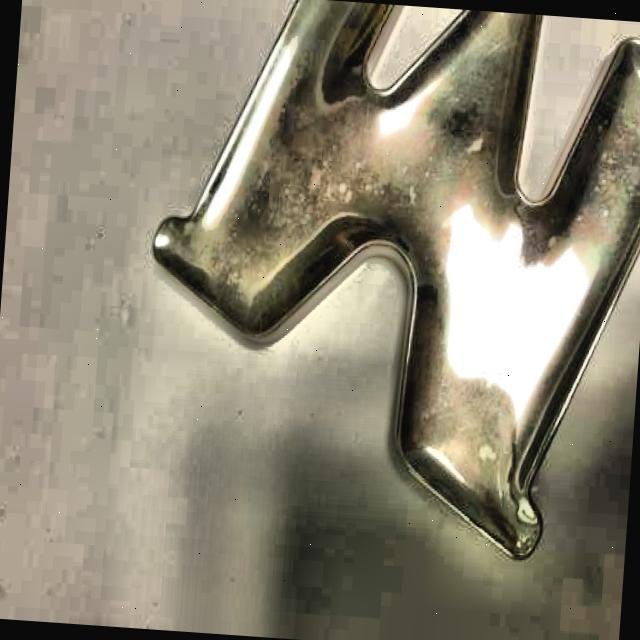metal: (121, 0, 640, 558)
